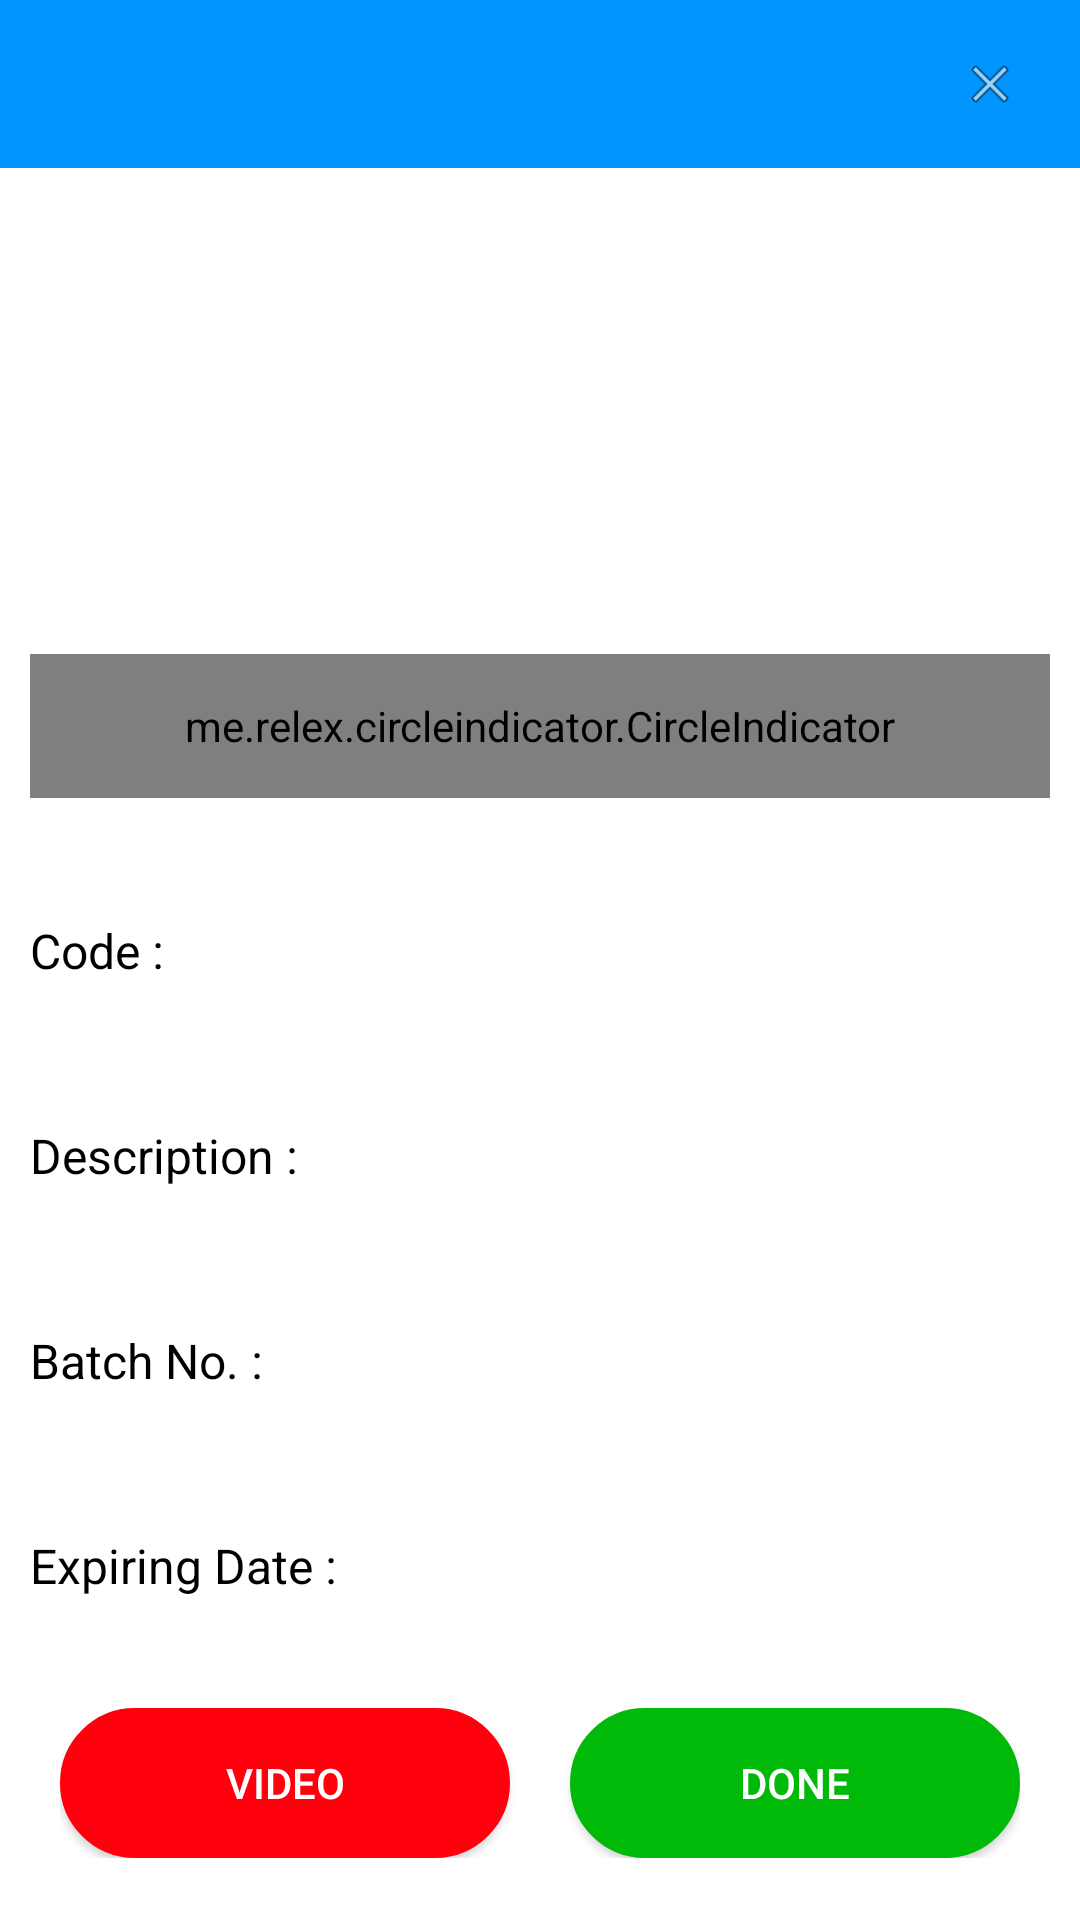

Named icons in this screenshot (1080×1920) and their bounding boxes, (x1, y1, x2, y2):
close clear cancel: (971, 65, 1009, 103)
